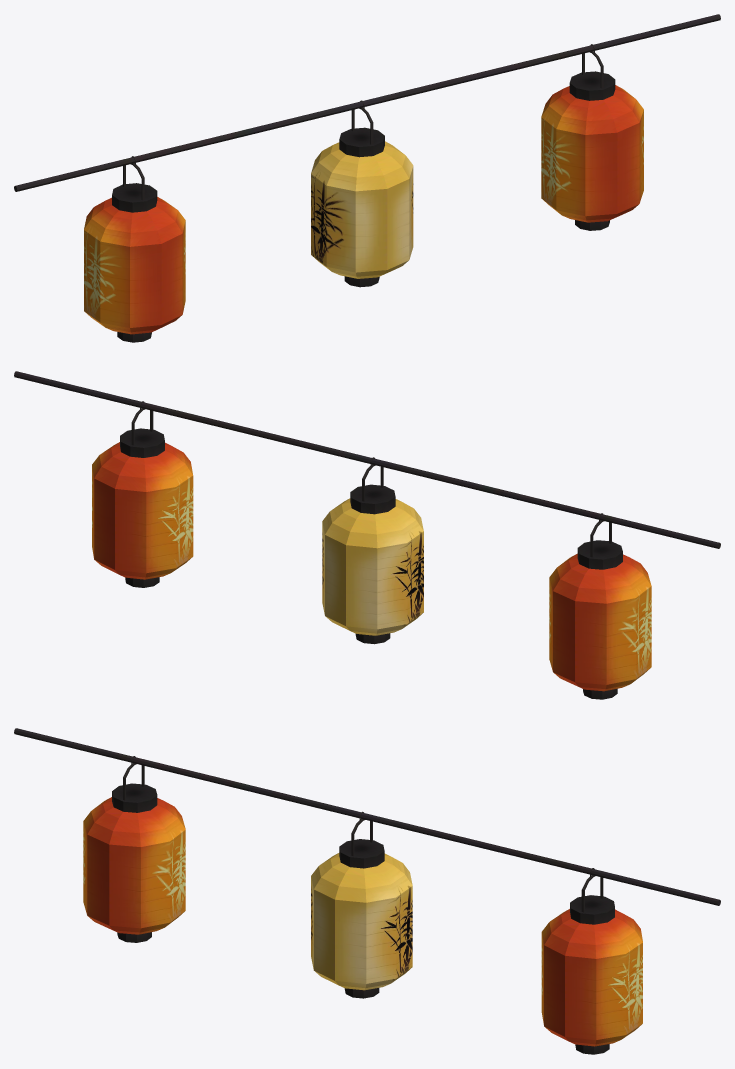
Rendered from japanese_lanterns_02.glb.
3 views of the same model, one above another, from view 1: azimuth 30°, elevation 25°; view 2: azimuth 150°, elevation 25°; view 3: azimuth 330°, elevation 25° (orthographic).
Visible parts, largest first — view 1: polySurface27; view 2: polySurface27; view 3: polySurface27.
Boxes of the visible parts, x1,y1,x2,y2 form: polySurface27: [14, 14, 720, 342]; polySurface27: [14, 371, 720, 699]; polySurface27: [14, 728, 720, 1054].
Bounding box in the file's own units: 6.25 × 1.52 × 0.8042.
1 material, 1 textured.
